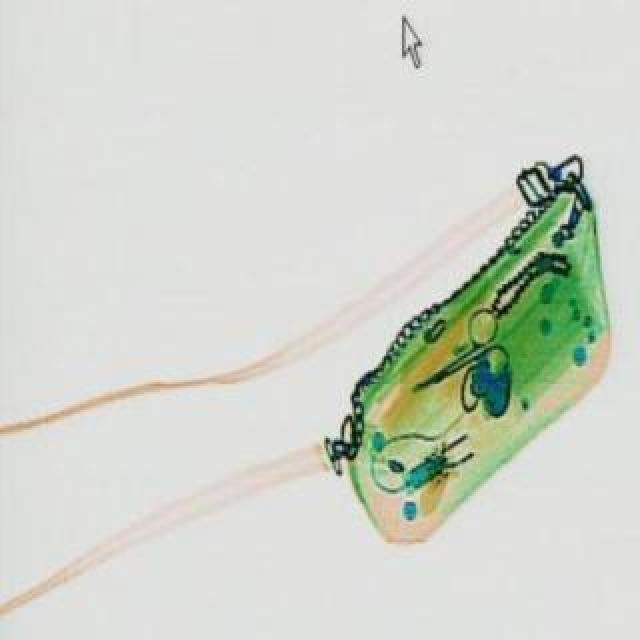pliers: (394, 302, 528, 414)
